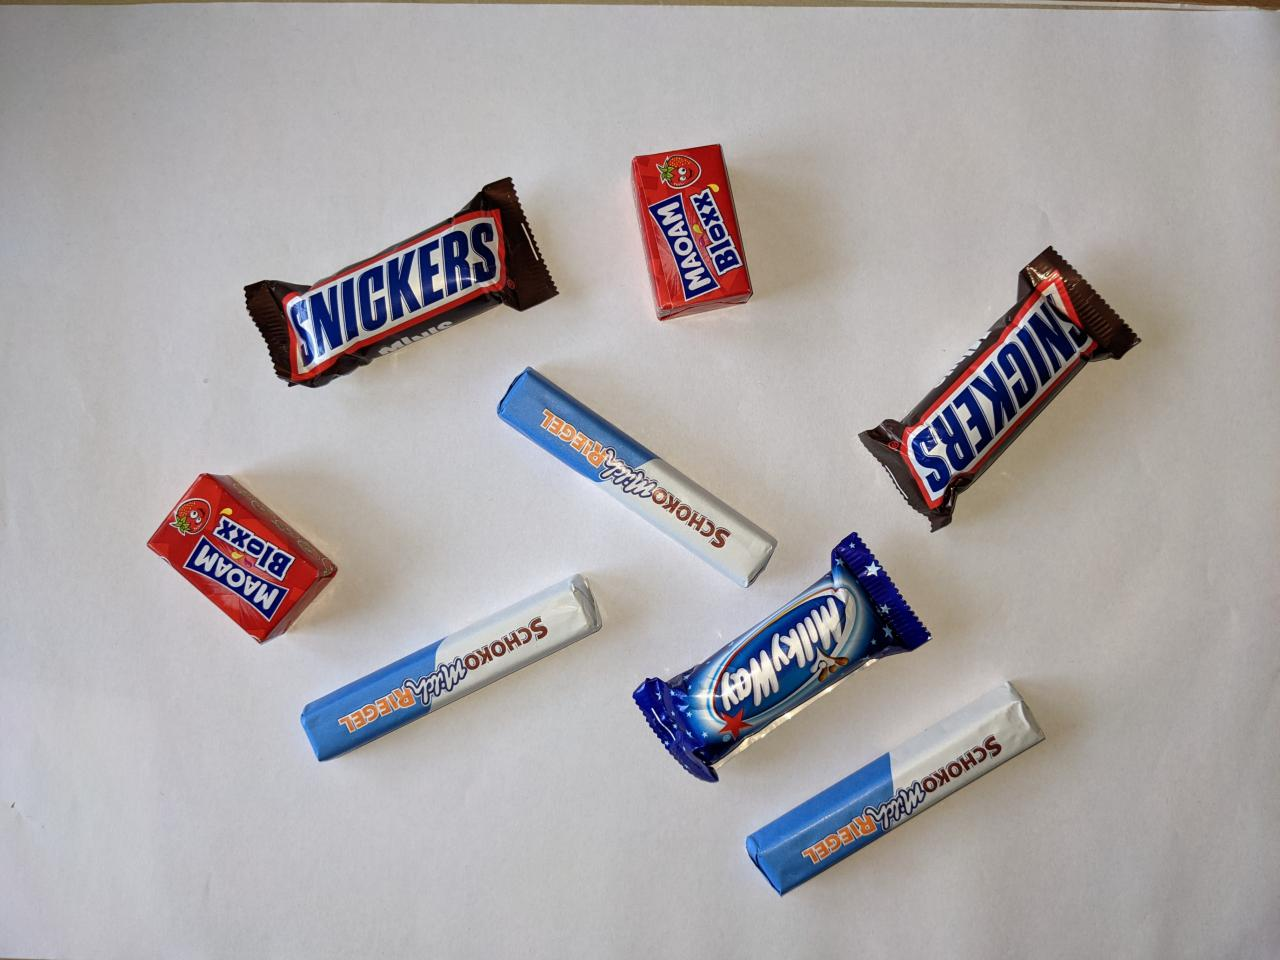MAOAM: (137, 462, 345, 650), (622, 136, 761, 326)
MilkyWay: (624, 523, 940, 789)
Schokoriegel: (737, 671, 1054, 904), (492, 361, 787, 595), (291, 564, 611, 772)
Snickers: (850, 237, 1150, 539), (237, 167, 570, 397)
